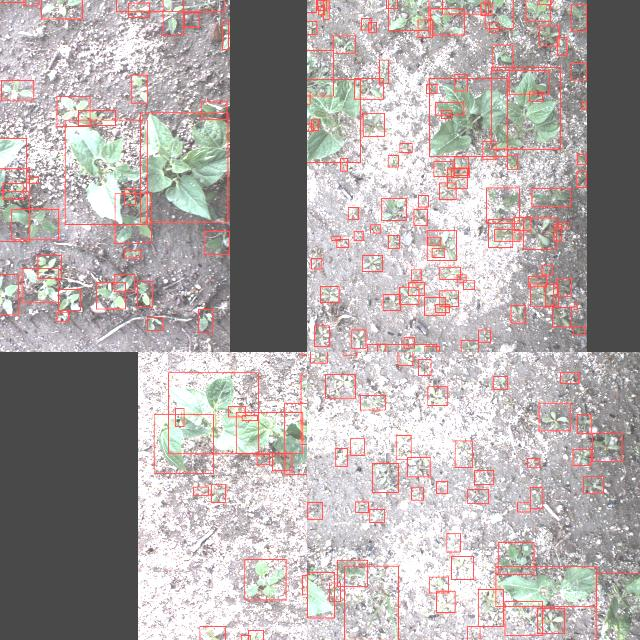crop: (140, 112, 228, 222), (64, 119, 146, 224), (168, 372, 258, 453), (429, 78, 507, 156), (490, 67, 560, 149), (307, 78, 360, 161), (496, 566, 596, 606), (153, 413, 213, 472), (596, 572, 640, 640), (235, 412, 302, 452), (0, 167, 28, 240), (284, 402, 307, 473), (0, 137, 26, 191), (307, 571, 333, 616)
weed: (343, 565, 397, 639), (115, 193, 152, 243), (244, 559, 286, 599), (10, 208, 58, 240), (504, 601, 542, 635), (21, 267, 57, 301), (388, 0, 428, 29), (486, 188, 520, 222), (497, 541, 533, 573), (307, 49, 332, 95), (524, 217, 556, 249), (56, 96, 90, 126), (509, 70, 549, 94), (478, 588, 502, 626), (426, 230, 456, 260), (538, 402, 570, 430), (430, 8, 464, 34), (592, 433, 622, 461), (485, 0, 513, 28), (337, 560, 367, 586), (371, 462, 397, 492), (40, 0, 81, 18), (162, 0, 183, 35), (96, 282, 124, 308), (324, 373, 354, 397), (532, 188, 570, 206), (0, 274, 17, 314), (488, 219, 512, 247), (536, 608, 564, 632), (1, 79, 34, 99), (530, 284, 558, 306), (353, 78, 382, 99), (204, 230, 230, 253), (442, 0, 488, 13), (380, 198, 406, 220), (37, 255, 61, 278), (492, 44, 512, 70), (78, 110, 114, 124), (362, 112, 383, 136), (525, 0, 550, 20), (454, 439, 472, 466), (58, 288, 80, 310), (451, 556, 473, 578), (201, 101, 227, 119), (406, 456, 429, 476), (136, 281, 152, 307), (359, 394, 385, 410), (552, 306, 572, 326), (447, 168, 467, 188), (539, 25, 559, 45), (436, 590, 454, 612), (132, 74, 146, 102), (572, 3, 586, 30), (199, 625, 224, 640), (435, 102, 463, 115), (398, 286, 418, 304), (424, 297, 444, 315), (272, 452, 292, 470), (427, 386, 447, 404), (2, 183, 24, 199), (332, 36, 354, 52), (198, 308, 212, 332), (396, 434, 410, 458), (114, 274, 134, 290), (361, 255, 381, 271), (433, 160, 453, 176), (428, 576, 448, 592), (468, 488, 488, 504), (583, 476, 603, 492), (494, 229, 520, 241), (439, 290, 458, 306), (510, 305, 526, 323), (320, 286, 338, 302), (382, 294, 400, 310), (438, 182, 456, 198), (210, 484, 226, 502), (573, 449, 591, 465), (128, 2, 148, 16), (314, 325, 328, 345), (473, 470, 493, 484), (577, 413, 591, 433), (351, 329, 365, 348), (530, 486, 542, 508), (557, 278, 571, 296), (413, 208, 427, 226), (454, 156, 468, 174), (482, 141, 496, 159), (418, 19, 432, 37), (572, 62, 586, 80), (446, 533, 460, 551), (440, 266, 460, 278), (378, 59, 388, 83), (307, 501, 321, 518), (460, 339, 478, 352), (184, 12, 200, 26), (514, 216, 530, 230), (350, 438, 364, 454), (368, 508, 384, 522), (328, 582, 339, 602), (335, 448, 347, 466), (147, 316, 163, 329), (397, 352, 412, 365), (408, 282, 424, 294), (454, 74, 466, 90), (492, 376, 508, 388), (418, 359, 430, 375), (466, 626, 479, 640), (528, 276, 546, 286), (451, 167, 469, 177), (557, 37, 567, 55), (560, 372, 578, 382), (545, 283, 553, 305), (174, 408, 183, 427), (228, 406, 245, 416), (309, 352, 326, 362), (222, 21, 228, 49), (247, 629, 262, 640), (124, 188, 134, 204), (507, 154, 517, 170), (576, 171, 586, 187), (354, 501, 368, 512), (478, 329, 490, 341), (411, 487, 423, 499), (516, 502, 530, 512), (481, 2, 492, 14), (388, 235, 398, 248), (436, 481, 446, 494), (124, 249, 140, 257), (553, 224, 561, 240), (192, 486, 208, 494), (56, 311, 68, 321), (310, 258, 322, 268), (411, 268, 421, 280), (418, 194, 428, 206), (348, 207, 358, 219), (399, 142, 411, 152), (530, 91, 542, 101), (360, 17, 370, 29), (301, 574, 307, 594), (256, 454, 268, 464), (307, 20, 316, 33), (322, 0, 328, 19), (435, 304, 449, 312), (387, 156, 397, 167), (427, 237, 439, 246), (527, 458, 539, 467), (423, 345, 438, 352), (403, 337, 413, 347), (542, 264, 552, 274), (577, 154, 587, 164), (426, 83, 436, 93), (316, 0, 326, 10), (488, 22, 498, 32), (573, 326, 585, 334), (432, 248, 444, 256), (336, 239, 348, 247), (310, 118, 318, 130), (339, 157, 346, 170), (353, 230, 362, 240), (462, 280, 473, 288), (385, 0, 396, 8), (242, 414, 256, 420), (456, 274, 466, 282), (370, 224, 380, 232), (441, 110, 451, 118), (368, 22, 376, 32), (377, 343, 385, 352), (28, 177, 38, 183), (558, 221, 568, 227), (240, 634, 249, 640), (317, 6, 323, 14), (330, 236, 340, 240), (307, 123, 312, 131), (538, 0, 551, 3), (342, 352, 355, 355), (582, 101, 586, 109), (574, 303, 578, 309)
